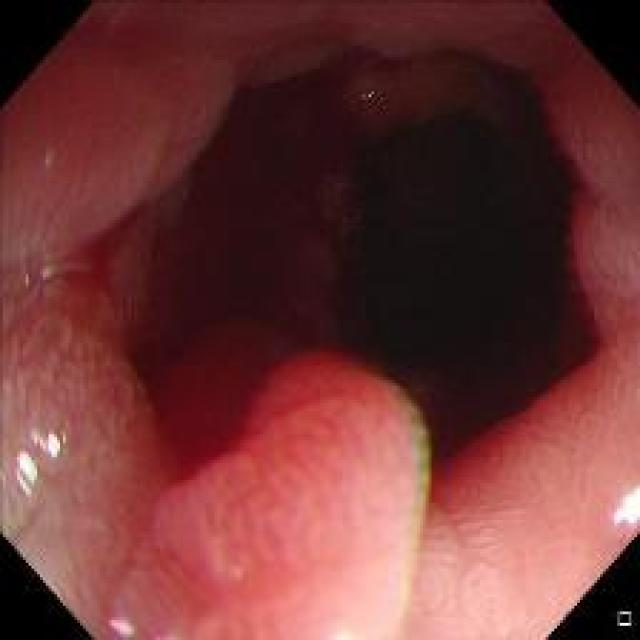color misalignment: (372, 372, 428, 559), (14, 258, 91, 284), (18, 446, 39, 499), (26, 426, 68, 451), (104, 611, 134, 638), (40, 136, 61, 171), (224, 555, 245, 585)
contrast: (204, 79, 610, 455)
saturation: (314, 524, 504, 636)
specularity: (614, 479, 638, 534), (16, 452, 34, 498), (40, 428, 61, 455)
